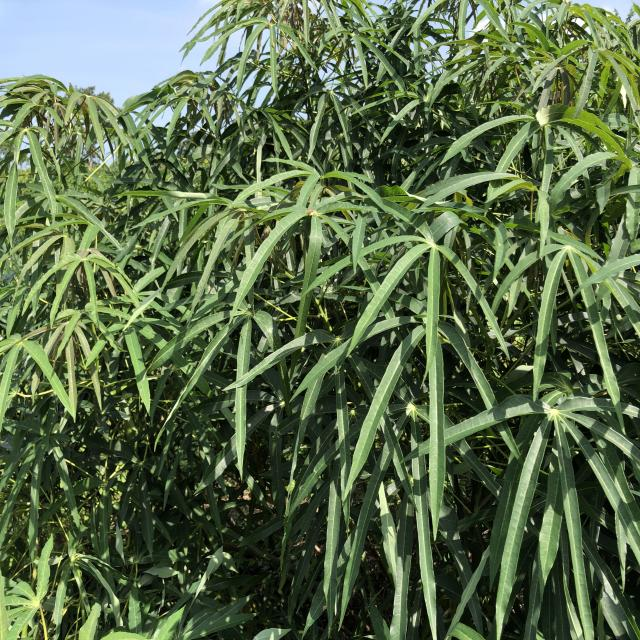Mosca: (302, 205, 328, 226), (227, 403, 240, 427), (524, 425, 540, 442), (309, 505, 326, 518), (355, 377, 367, 394)
